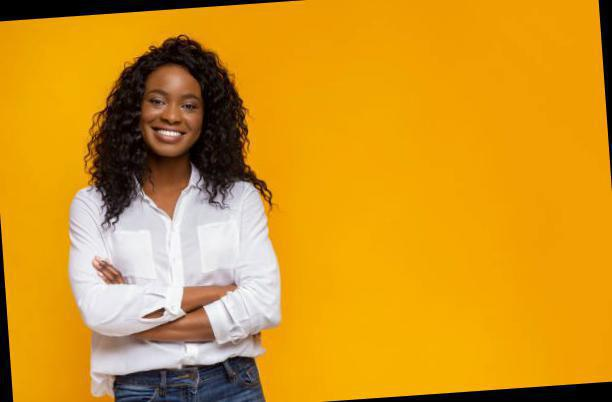Sober: (145, 73, 201, 153)
